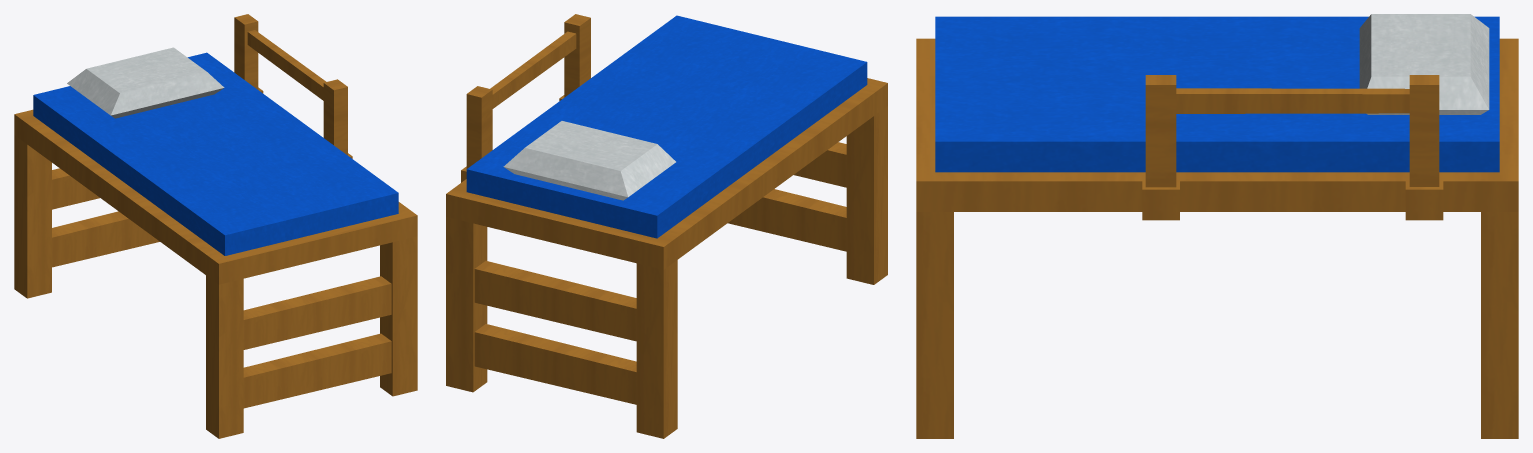
Rendered from model_bed.fbx.
3 views of the same model, side by side, from view 1: azimuth 30°, elevation 25°; view 2: azimuth 150°, elevation 25°; view 3: azimuth 270°, elevation 25° (orthographic). The views are drawn at different scales.
Visible parts, largest first — view 1: SM_Bed; view 2: SM_Bed; view 3: SM_Bed.
Part boxes in pixels (left/top/right/bottom): SM_Bed: left=14, top=14, right=417, bottom=438; SM_Bed: left=446, top=14, right=887, bottom=438; SM_Bed: left=916, top=14, right=1518, bottom=438.
Size of the model in its own units: 4.98 by 5.53 by 8.38.
Materials: 3 (3 with a texture image).
